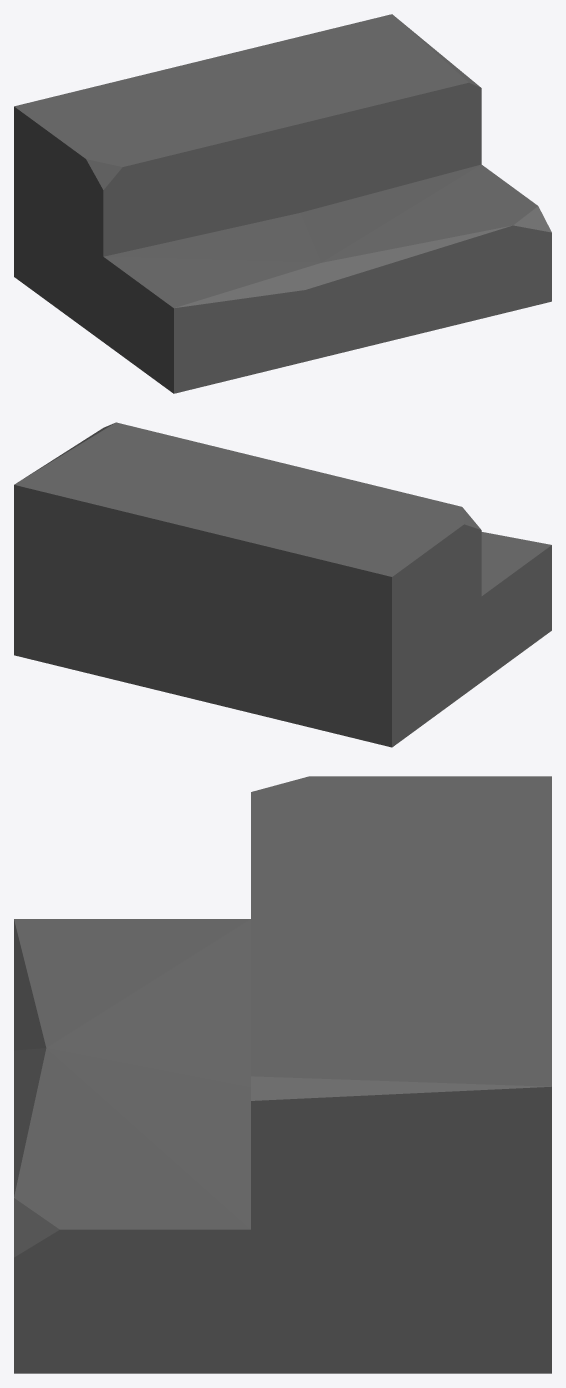
File: SM_Bld_House_Concrete_Steps_01.fbx
3 views of the same model, one above another, from view 1: azimuth 30°, elevation 25°; view 2: azimuth 150°, elevation 25°; view 3: azimuth 270°, elevation 25° (orthographic). The views are drawn at different scales.
Visible parts, largest first — view 1: SM_Bld_House_Concrete_Steps_01; view 2: SM_Bld_House_Concrete_Steps_01; view 3: SM_Bld_House_Concrete_Steps_01.
Boxes of the visible parts, x1=… form: SM_Bld_House_Concrete_Steps_01: x1=14, y1=14, x2=551, y2=393; SM_Bld_House_Concrete_Steps_01: x1=14, y1=422, x2=551, y2=747; SM_Bld_House_Concrete_Steps_01: x1=14, y1=776, x2=551, y2=1373.
Size of the model in its own units: 119 by 51.26 by 87.1.
